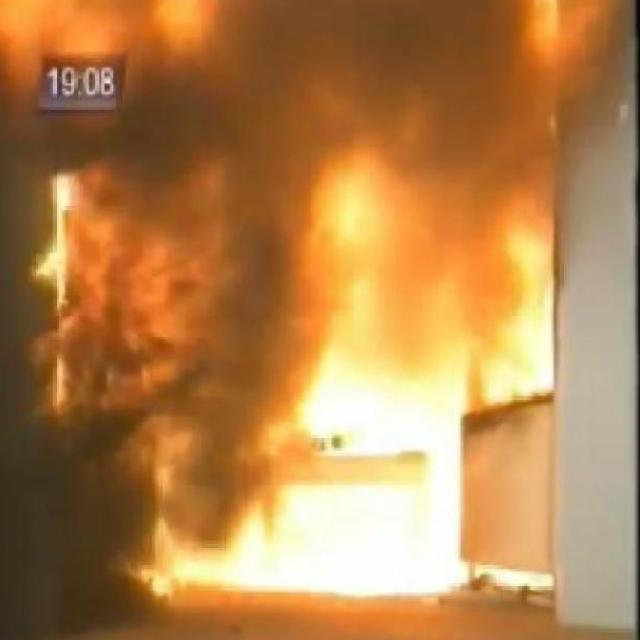smoke: (152, 128, 567, 601)
